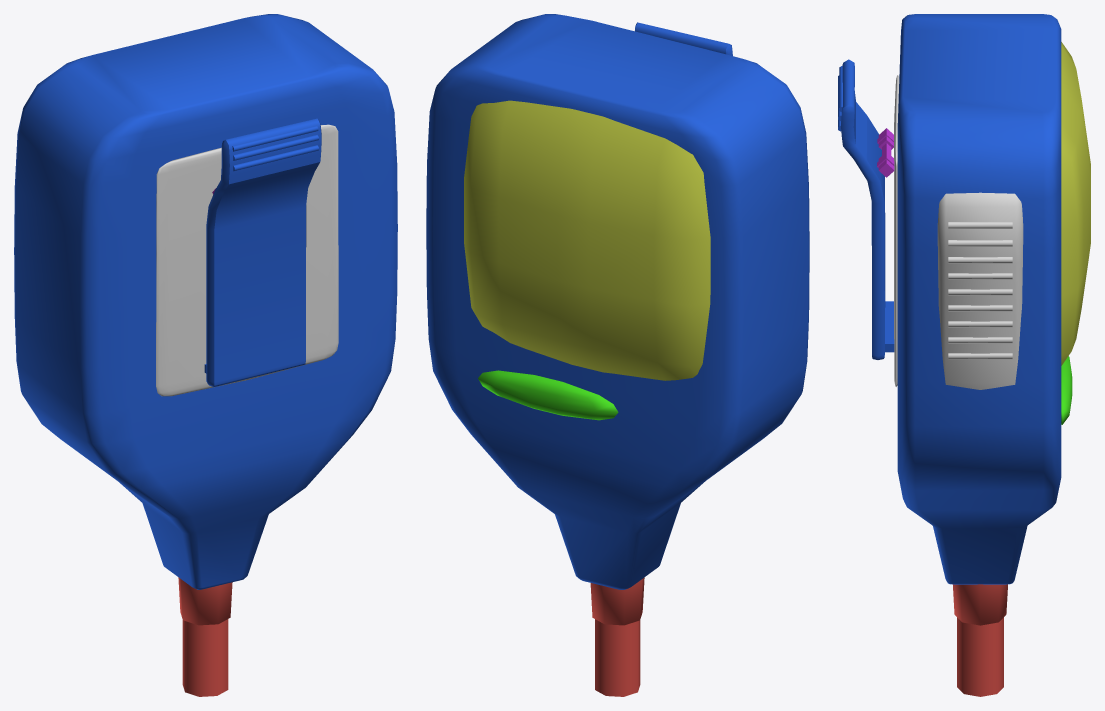
Rendered from Radio.fbx.
3 views of the same model, side by side, from view 1: azimuth 30°, elevation 25°; view 2: azimuth 150°, elevation 25°; view 3: azimuth 270°, elevation 25° (orthographic).
Parts seen in each view (by area): view 1: Radio_Lo.001; view 2: Radio_Lo.001; view 3: Radio_Lo.001, Radio_Lo_Button.001.
Part boxes in pixels (box(x1,y1,x2,y2)): Radio_Lo.001: box(14, 14, 397, 696); Radio_Lo.001: box(426, 14, 809, 696); Radio_Lo.001: box(838, 14, 1090, 696); Radio_Lo_Button.001: box(937, 192, 1023, 389).
Bounding box in the file's own units: 0.0749 × 0.05 × 0.1356.
